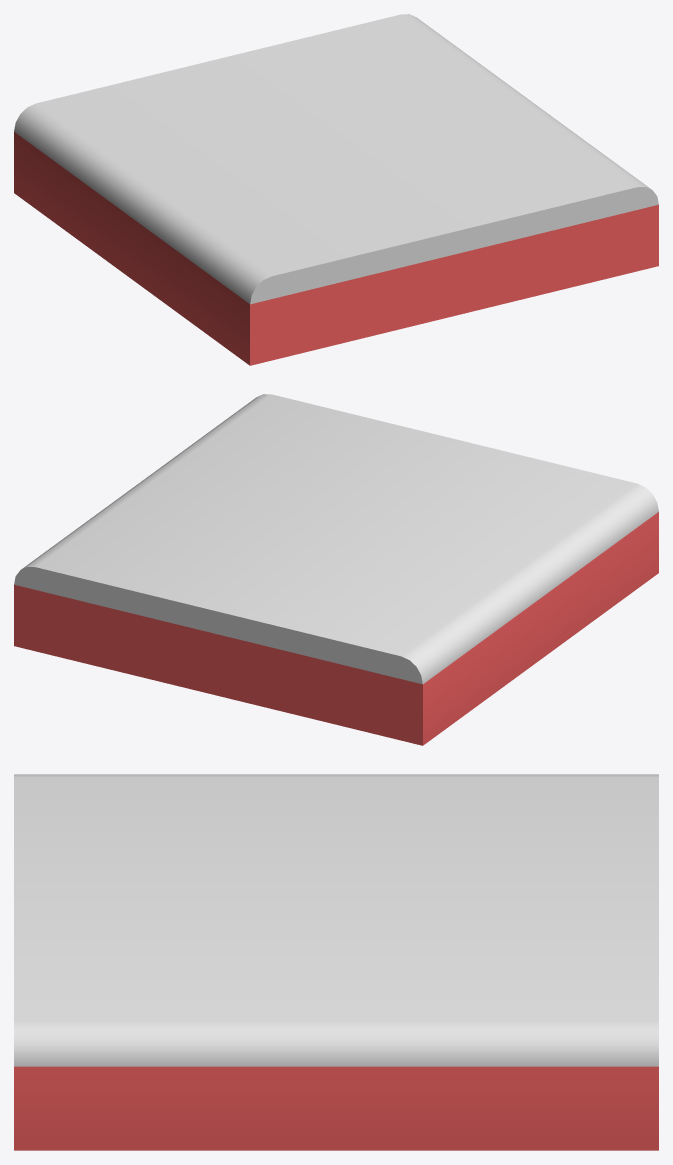
File: CubeForTile_05.3.fbx
3 renders of one model, top to bottom at view 1: azimuth 30°, elevation 25°; view 2: azimuth 150°, elevation 25°; view 3: azimuth 270°, elevation 25°, orthographic. The views are drawn at different scales.
Parts seen in each view (by area): view 1: CubeForTile_05.3; view 2: CubeForTile_05.3; view 3: CubeForTile_05.3.
Boxes of the visible parts, x1,y1,x2,y2 form: CubeForTile_05.3: (14, 14, 658, 365); CubeForTile_05.3: (14, 394, 658, 745); CubeForTile_05.3: (14, 774, 658, 1150).
Size of the model in its own units: 200 by 39.37 by 200.
